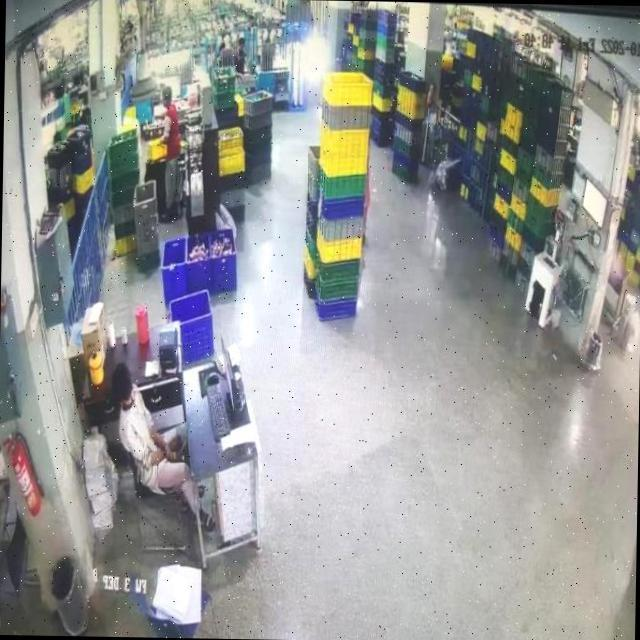person: (108, 365, 194, 505), (156, 84, 182, 222)
